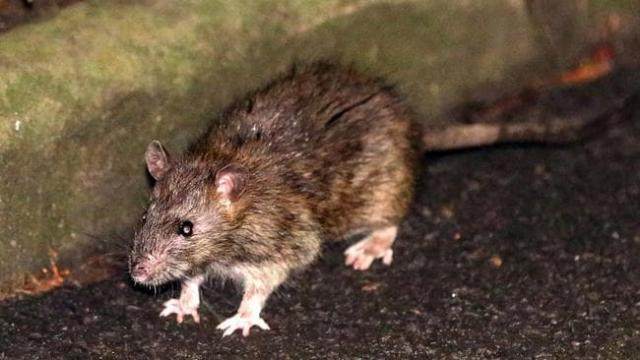rat: (106, 42, 476, 347)
